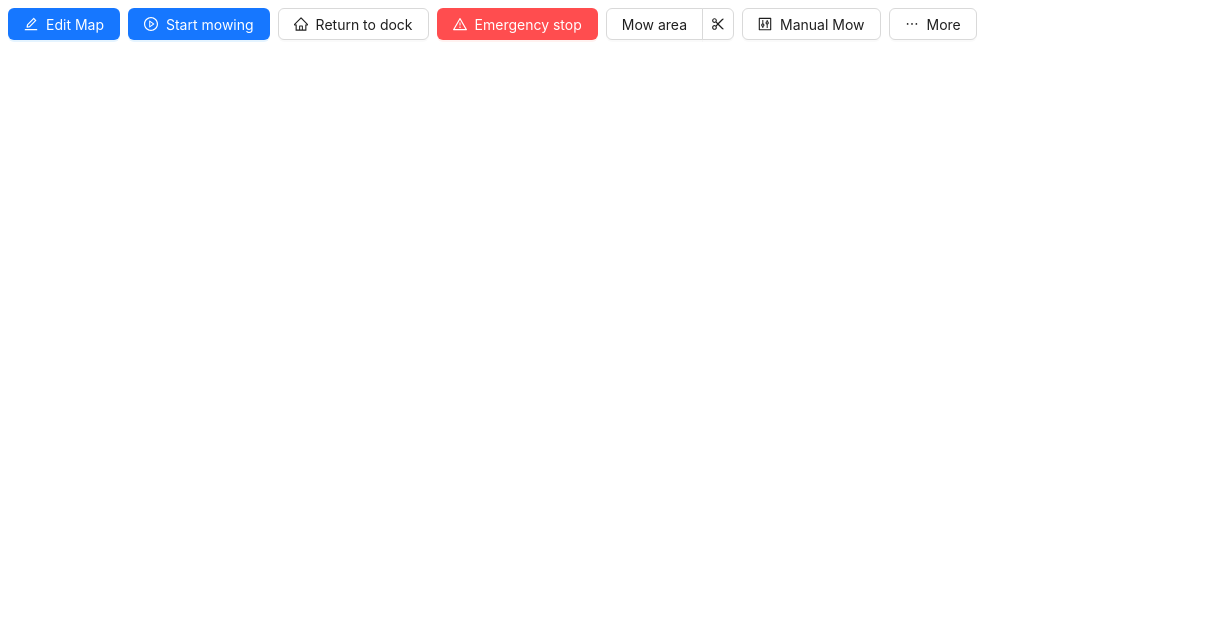
MapToolbar › shows Backup Map and Restore Map in More dropdown
Click the button "More" at (933,24), box [888,8,977,40]
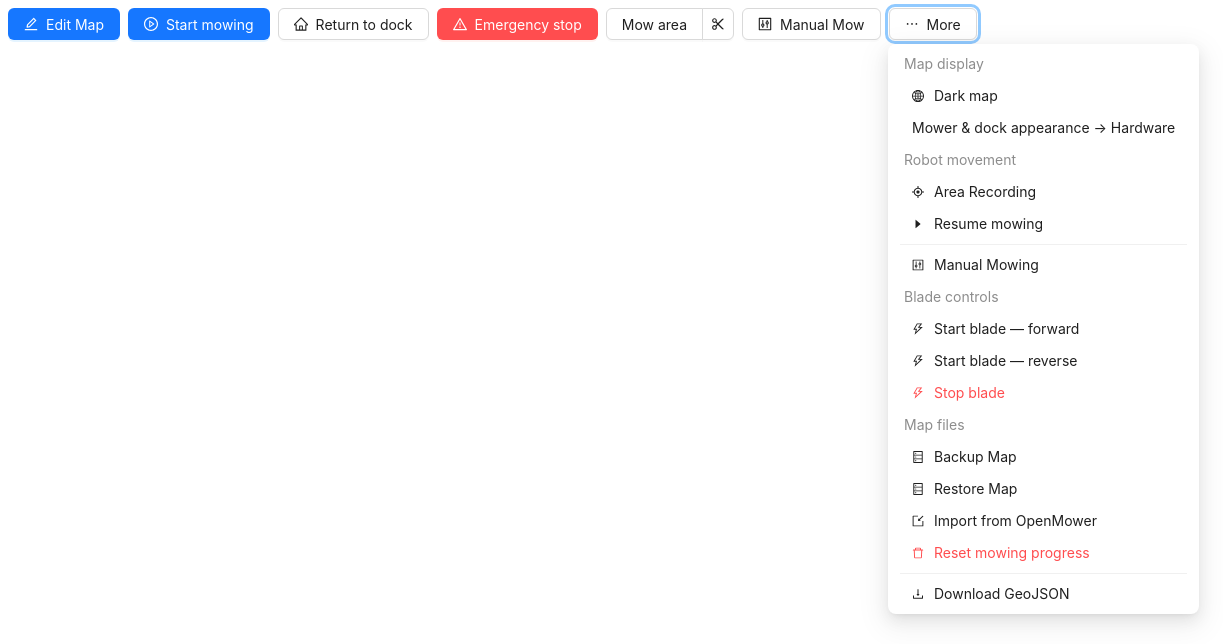
expect the text "Backup Map" is shown: met, box [934,448,1017,465]
expect the text "Restore Map" is shown: met, box [934,480,1017,497]
